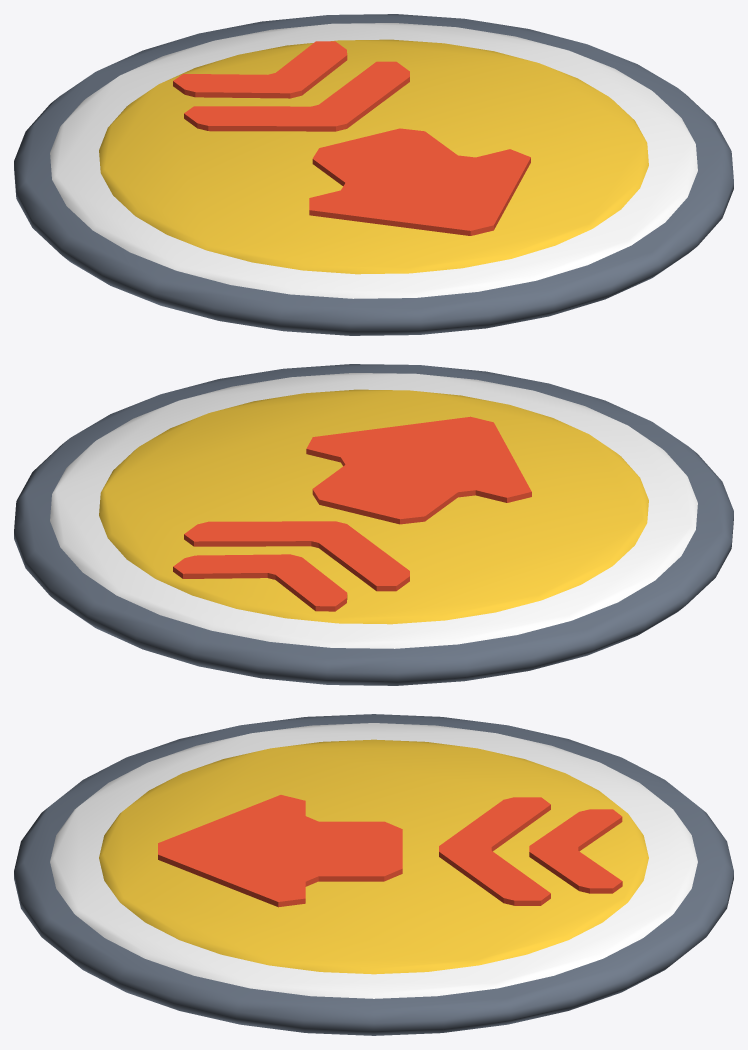
Rendered from Plot_ThrowPad.glb.
The picture shows the model from 3 angles, top to bottom: view 1: azimuth 30°, elevation 25°; view 2: azimuth 150°, elevation 25°; view 3: azimuth 270°, elevation 25°; orthographic projection.
Parts seen in each view (by area): view 1: Pad_FFD23F, BaseLip_6B7686, Ring_FFFFFF, Arrow_FF5A36; view 2: Pad_FFD23F, BaseLip_6B7686, Ring_FFFFFF, Arrow_FF5A36; view 3: Pad_FFD23F, BaseLip_6B7686, Ring_FFFFFF, Arrow_FF5A36.
Part boxes in pixels (box(x1,y1,x2,y2)): Pad_FFD23F: box(99, 39, 648, 274); BaseLip_6B7686: box(14, 14, 733, 335); Ring_FFFFFF: box(50, 23, 697, 298); Arrow_FF5A36: box(173, 41, 530, 235); Pad_FFD23F: box(99, 389, 648, 624); BaseLip_6B7686: box(14, 364, 733, 685); Ring_FFFFFF: box(50, 373, 697, 648); Arrow_FF5A36: box(173, 416, 531, 611); Pad_FFD23F: box(99, 739, 648, 974); BaseLip_6B7686: box(14, 714, 733, 1035); Ring_FFFFFF: box(50, 723, 697, 998); Arrow_FF5A36: box(158, 795, 622, 907).
Bounding box in the file's own units: 10 × 0.6 × 10.
